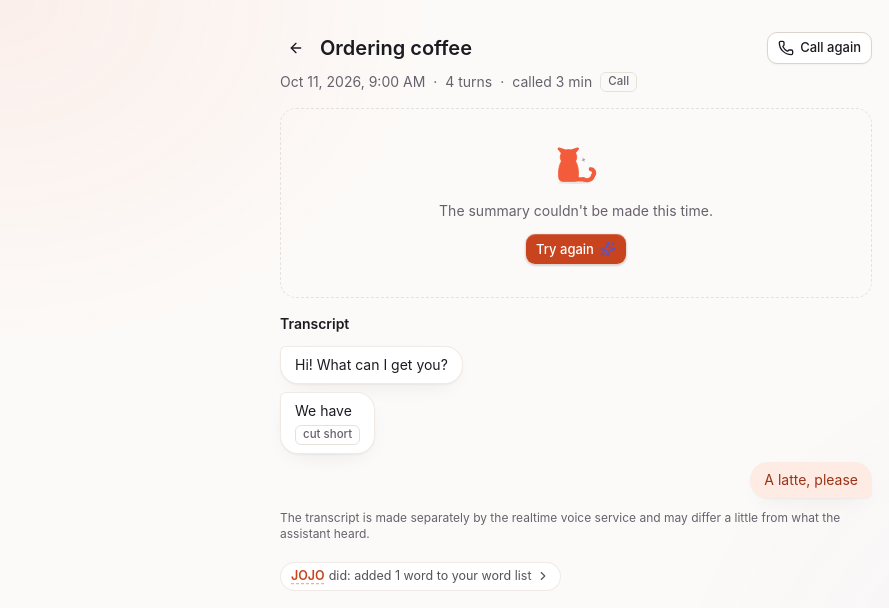
Test case: a realtime call's page › retries a summary that failed
The image size is (889, 608).
What coordinates should you click on to do the following:
click the button "Try again"
I would click on:
 (576, 249)
Its box is [525, 233, 627, 265].
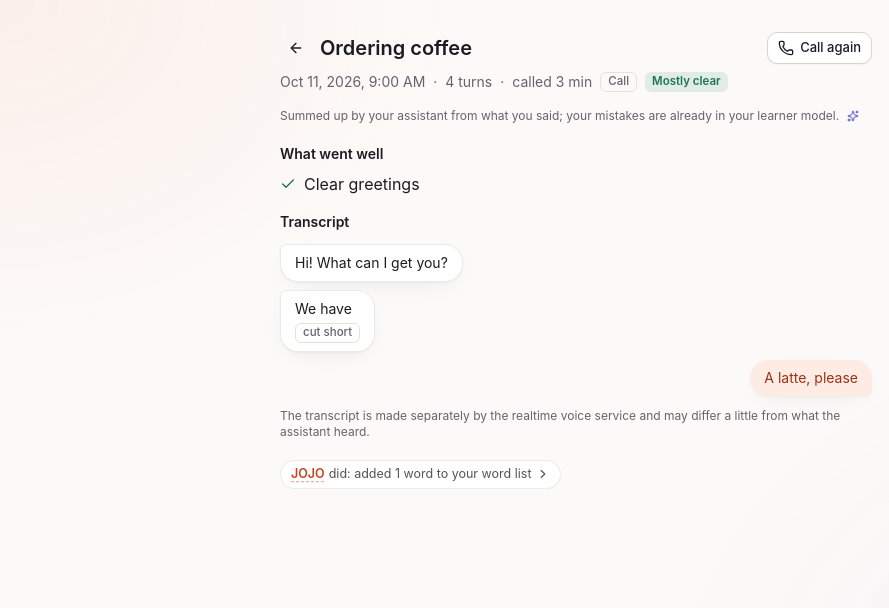
Now the text "Clear greetings" is shown, box [304, 172, 420, 196]
